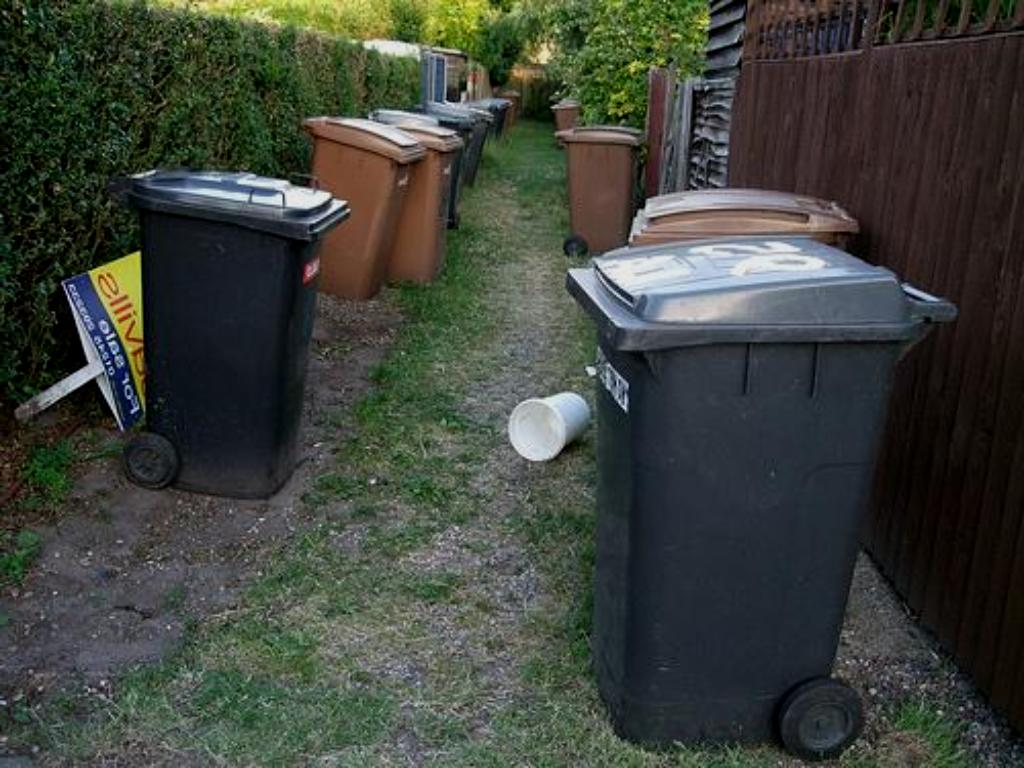dustbin: (536, 201, 939, 768), (97, 160, 354, 509), (284, 114, 454, 294), (551, 108, 649, 281)
